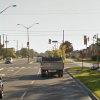Traffic light: (78, 31, 92, 47)
